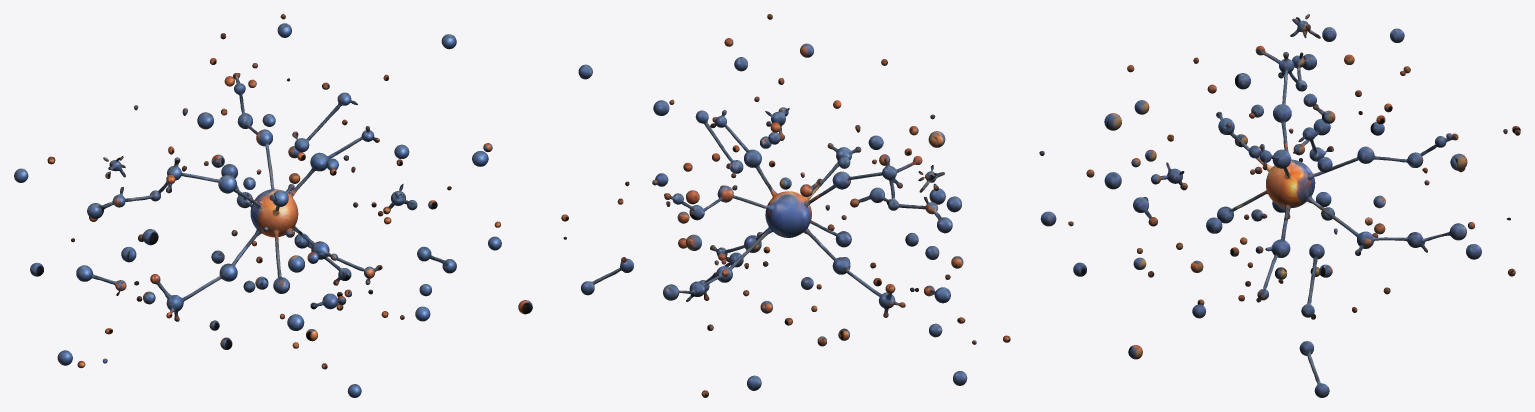
Rendered from gas_state_of_matter.glb.
3 views of the same model, side by side, from view 1: azimuth 30°, elevation 25°; view 2: azimuth 150°, elevation 25°; view 3: azimuth 270°, elevation 25° (orthographic). The views are drawn at different scales.
Visible parts, largest first — view 1: Mesh1_Mesh1.075; view 2: Mesh1_Mesh1.075; view 3: Mesh1_Mesh1.075.
Part boxes in pixels (bbox=[...]): Mesh1_Mesh1.075: bbox=[14, 14, 532, 397]; Mesh1_Mesh1.075: bbox=[561, 14, 1010, 397]; Mesh1_Mesh1.075: bbox=[1039, 14, 1520, 397].
Bounding box in the file's own units: 2 × 1.34 × 2.
Materials: 1 (1 with a texture image).
